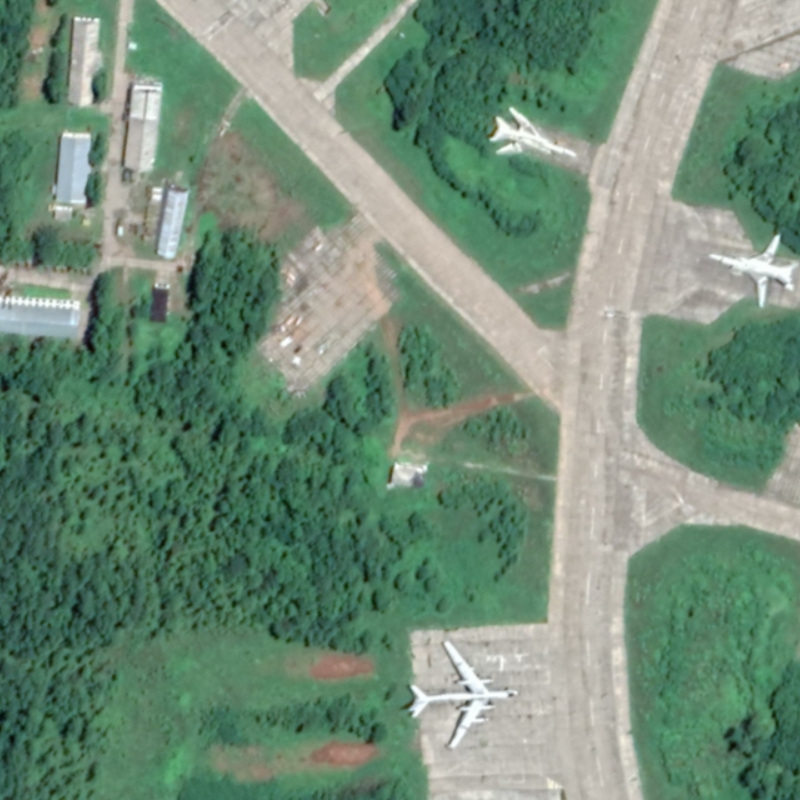A12: (707, 231, 798, 311), (486, 104, 580, 163)
A17: (401, 635, 522, 753)
